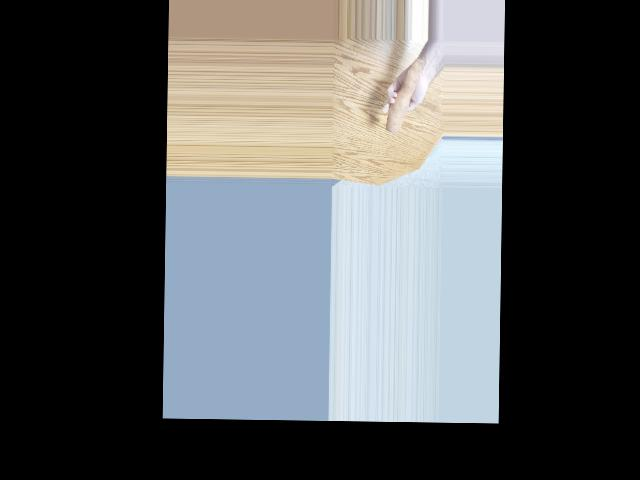sweet_potato: (391, 58, 424, 130)
